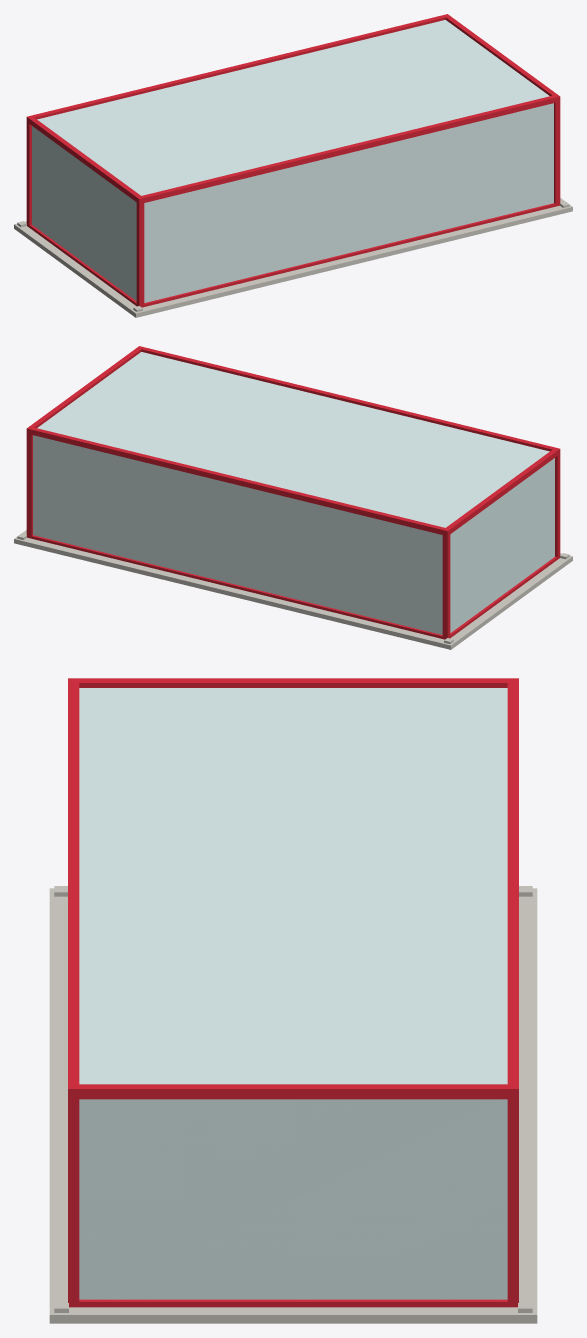
The model's file is la-ferrari-viva-hypercar.glb.
3 renders of one model, top to bottom at view 1: azimuth 30°, elevation 25°; view 2: azimuth 150°, elevation 25°; view 3: azimuth 270°, elevation 25°, orthographic. The views are drawn at different scales.
Bounding box in the file's own units: 0.627 × 0.1555 × 0.303.
